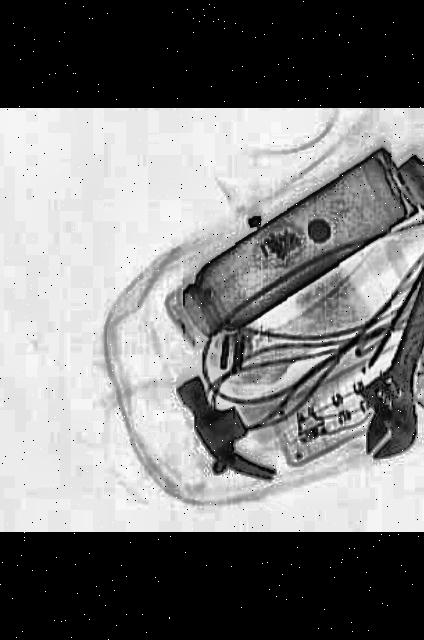Wrench: (336, 180, 424, 467)
